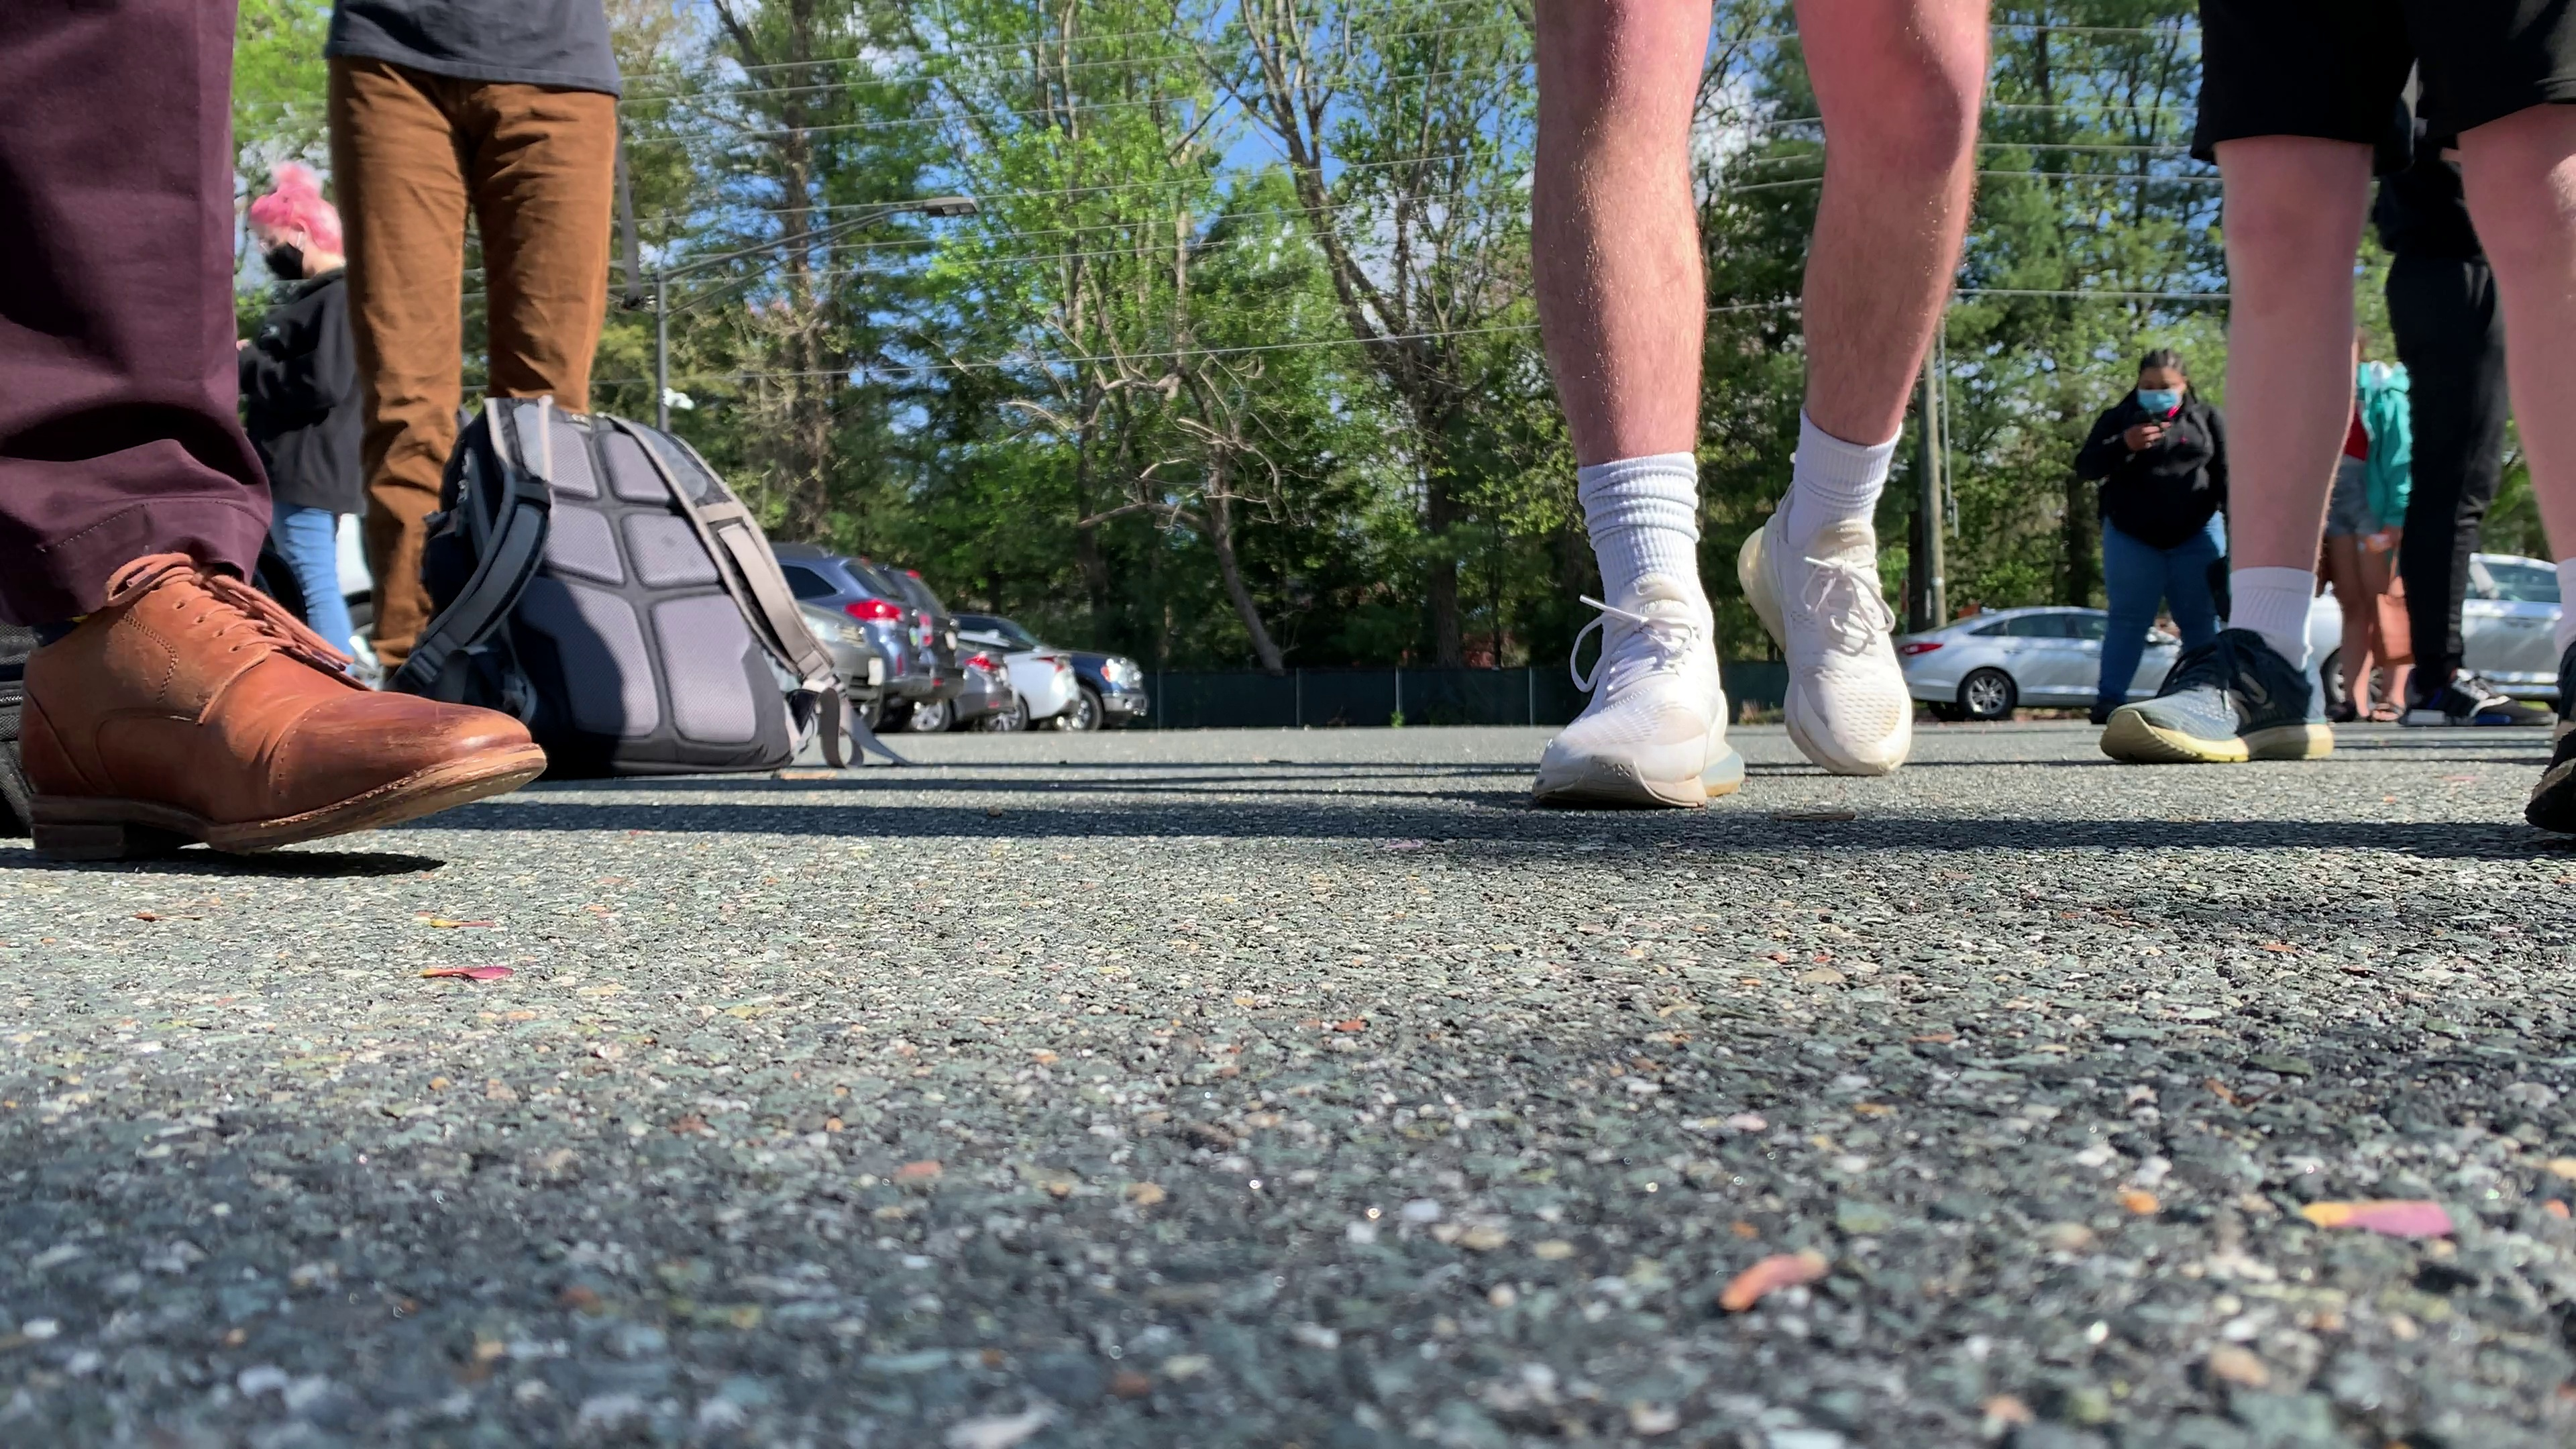shoe: (21, 568, 547, 849), (1737, 488, 1914, 773), (1532, 571, 1744, 809), (2098, 625, 2334, 761)
